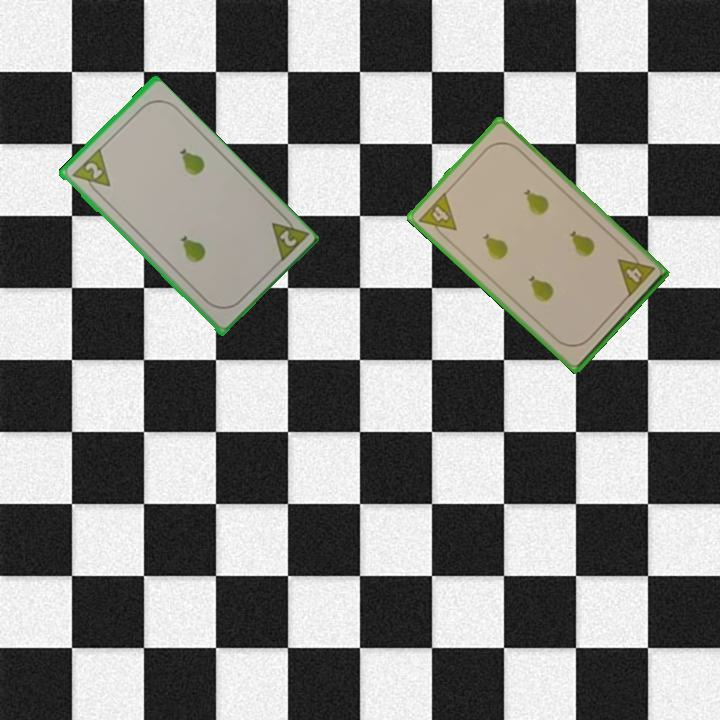2p: (267, 209, 310, 266), (68, 146, 113, 199)
4p: (415, 188, 460, 243), (612, 247, 657, 300)
